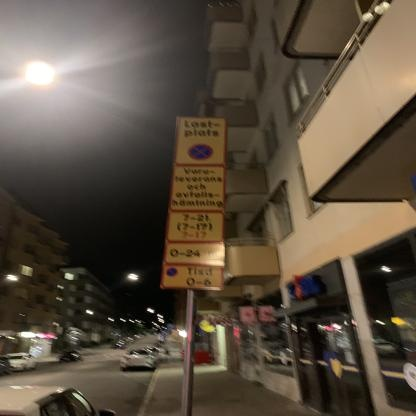lastplats: (174, 114, 227, 167)
